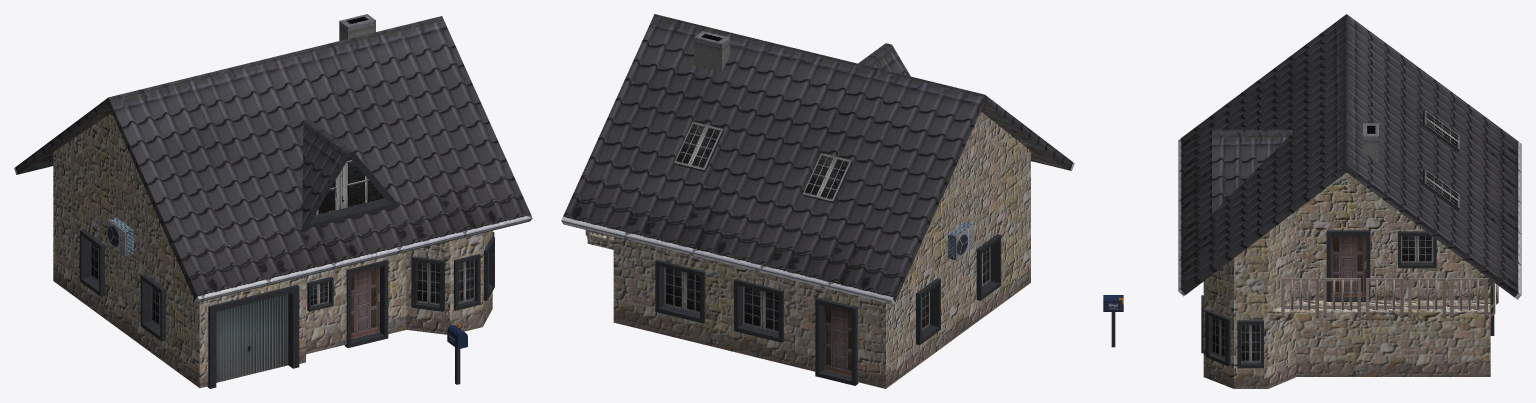
Rendered from casa2-b.glb.
The picture shows the model from 3 angles, left to right: view 1: azimuth 30°, elevation 25°; view 2: azimuth 150°, elevation 25°; view 3: azimuth 270°, elevation 25°; orthographic projection. The views are drawn at different scales.
Parts seen in each view (by area): view 1: Casa, CaixaCorreio; view 2: Casa; view 3: Casa, CaixaCorreio.
Part boxes in pixels (box(x1,y1,x2,y2)): Casa: box(14, 14, 532, 388); CaixaCorreio: box(447, 323, 467, 384); Casa: box(561, 14, 1074, 388); Casa: box(1178, 14, 1521, 388); CaixaCorreio: box(1103, 295, 1123, 347).
Size of the model in its own units: 8.84 by 6.38 by 10.33.
5 materials, 2 textured.
